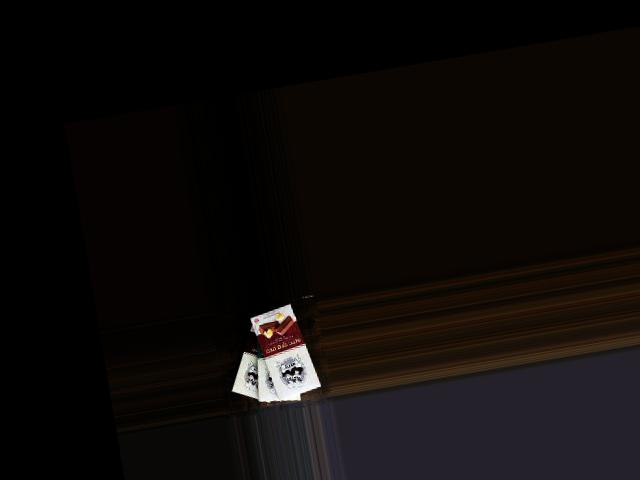chocolate: (218, 306, 293, 411)
